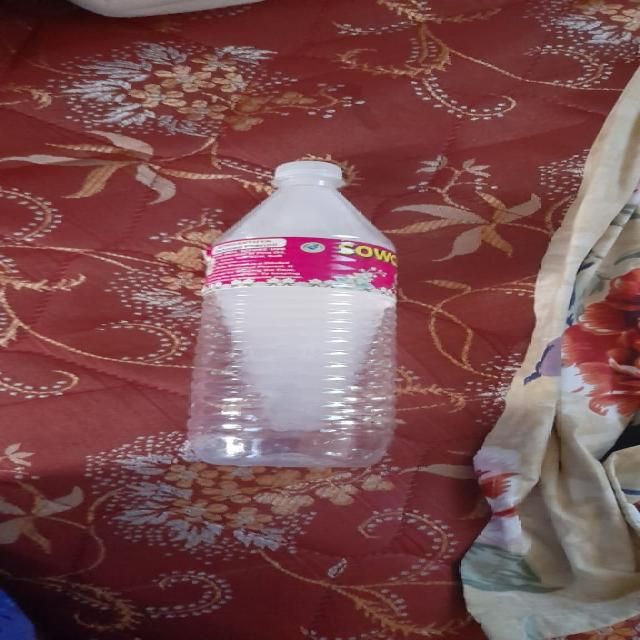Plastic - Recyclable: (184, 159, 402, 467)
